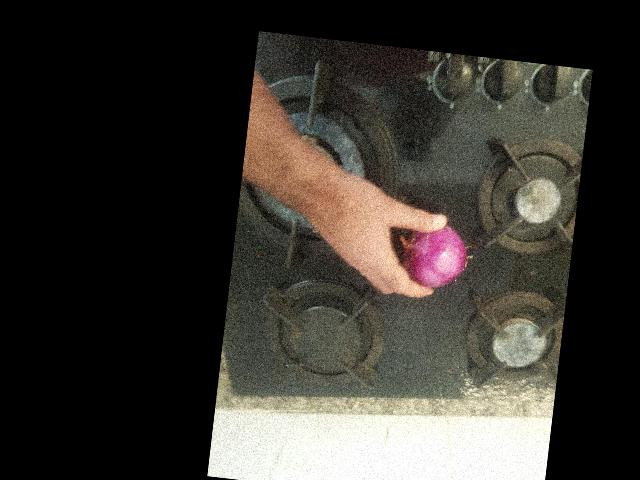onion: (431, 329, 509, 398)
